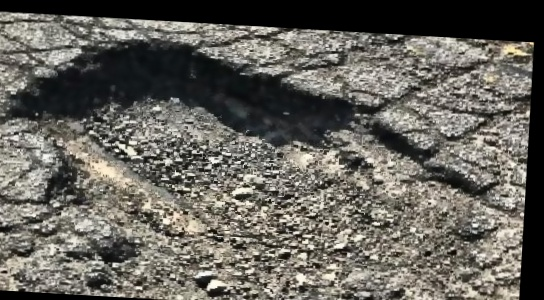pothole: (0, 28, 519, 300)
